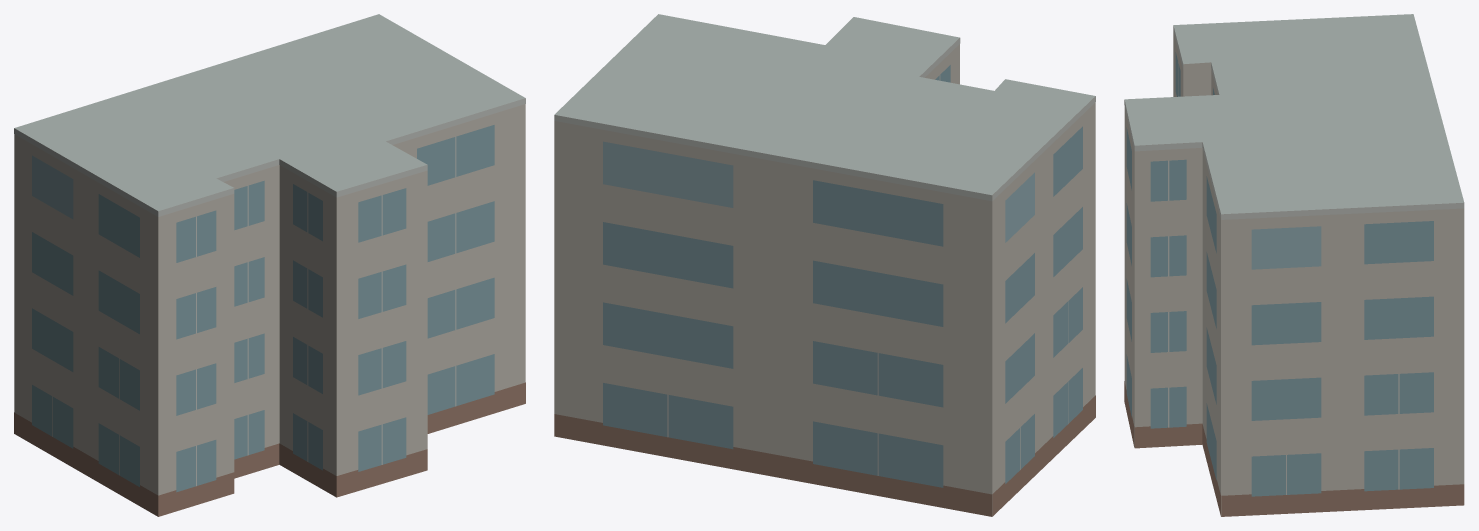
The model's file is survey-upis-32473489.glb.
3 views of the same model, side by side, from view 1: azimuth 30°, elevation 25°; view 2: azimuth 150°, elevation 25°; view 3: azimuth 270°, elevation 25° (orthographic). The views are drawn at different scales.
Visible parts, largest first — view 1: survey-upis-32473489.tmp; view 2: survey-upis-32473489.tmp; view 3: survey-upis-32473489.tmp.
Part boxes in pixels (<box>): survey-upis-32473489.tmp: <box>14,14,525,516</box>; survey-upis-32473489.tmp: <box>554,14,1095,516</box>; survey-upis-32473489.tmp: <box>1124,14,1464,516</box>.
Bounding box in the file's own units: 18.32 × 12.9 × 13.14.
